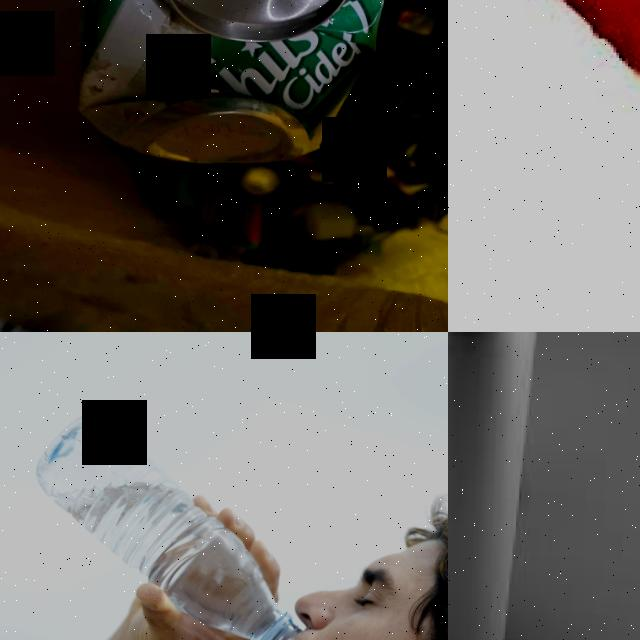bottle: (31, 414, 311, 640)
can: (448, 0, 640, 180), (448, 332, 547, 640)
